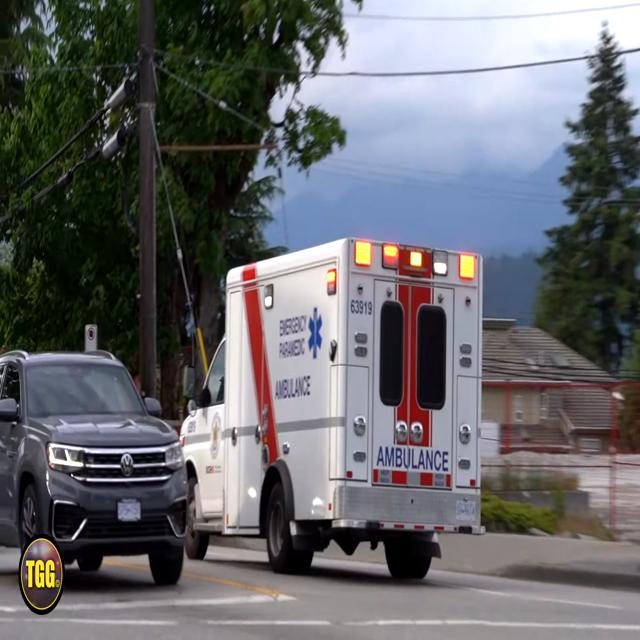emergency-vehicles: (145, 224, 507, 601)
